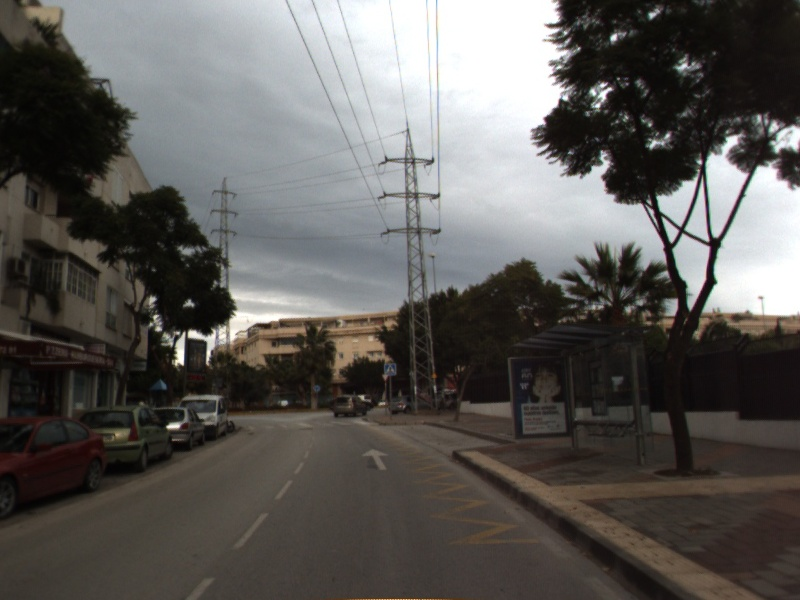STRAIGHT: (360, 447, 391, 472)
